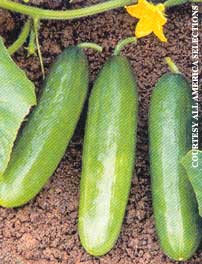cucumber: (0, 49, 98, 208), (77, 55, 136, 255), (149, 76, 201, 262)
